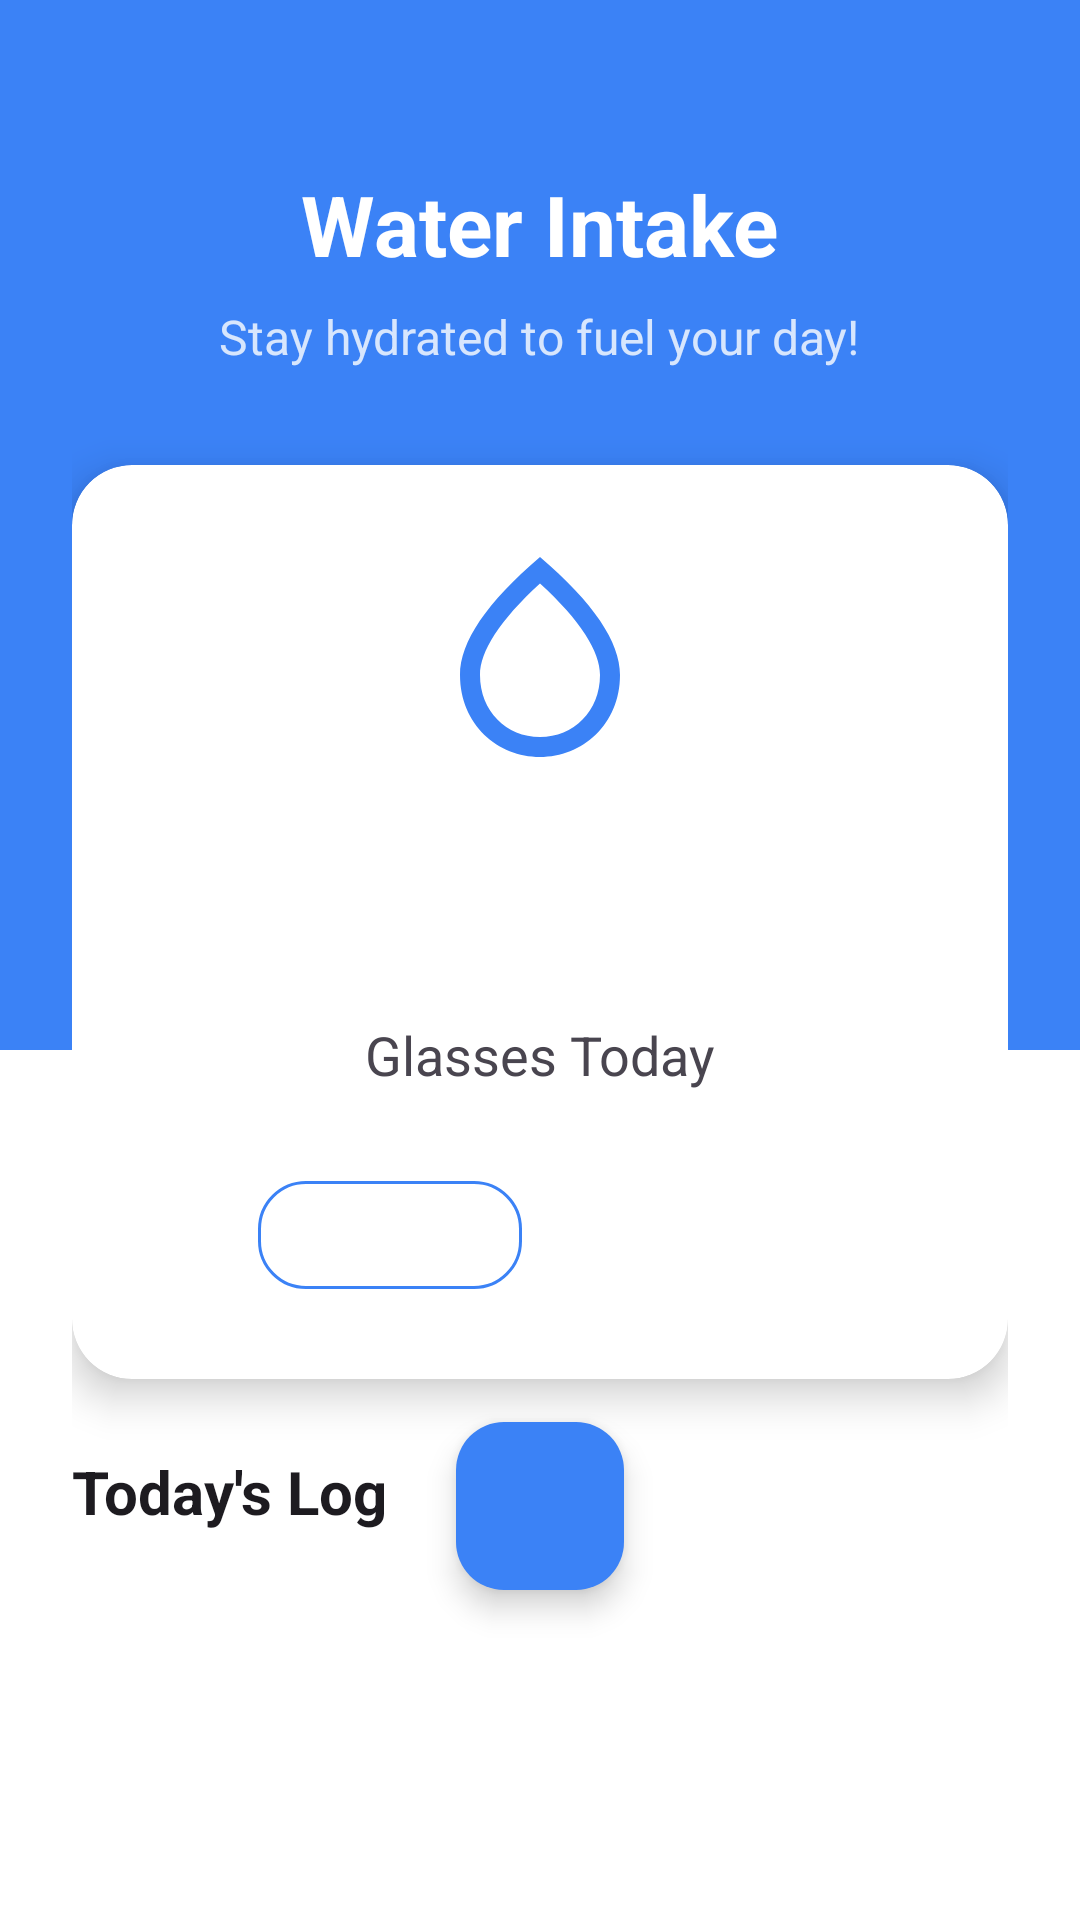

Point at icon controls on the screen. Image size 1080px×1920px, points as [x,y].
water drop: [540,657]
